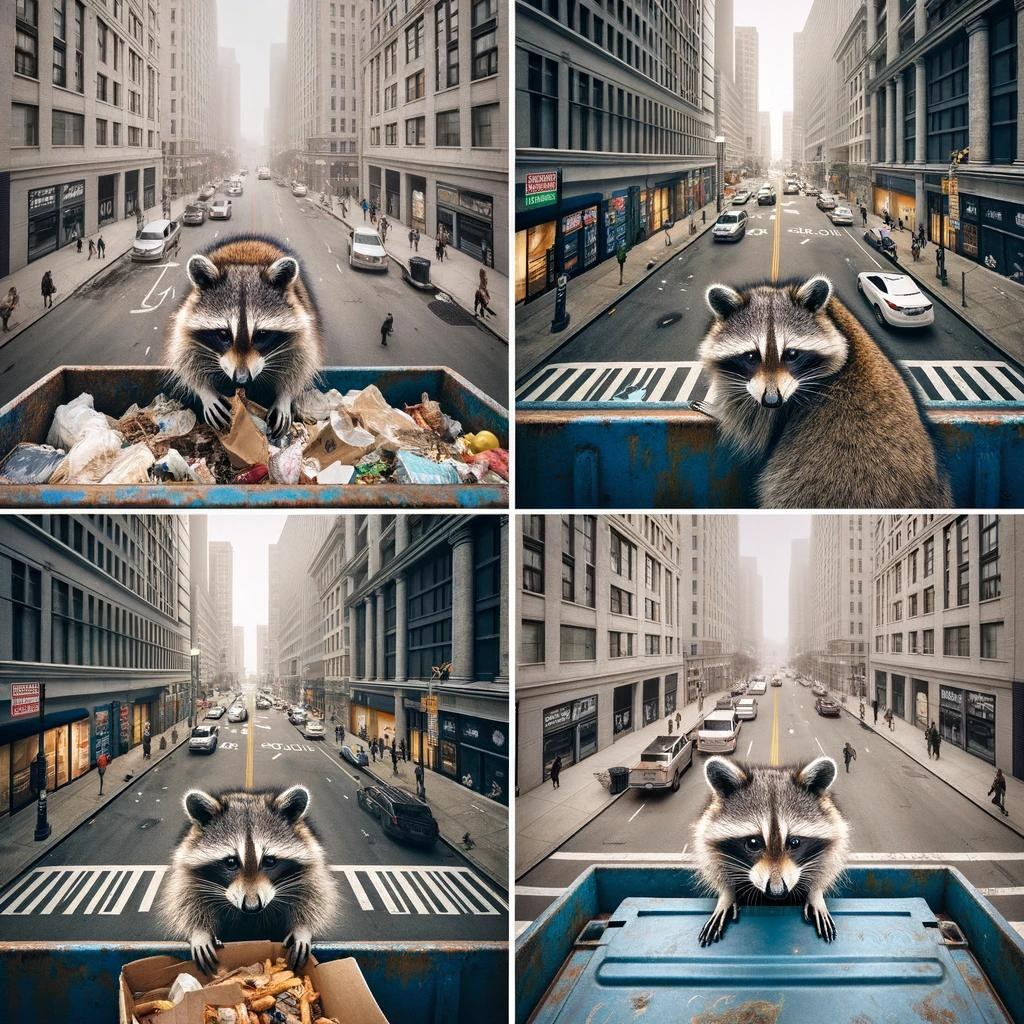raccoon: (687, 267, 958, 508), (148, 775, 352, 953), (682, 742, 860, 915), (152, 227, 330, 398)
